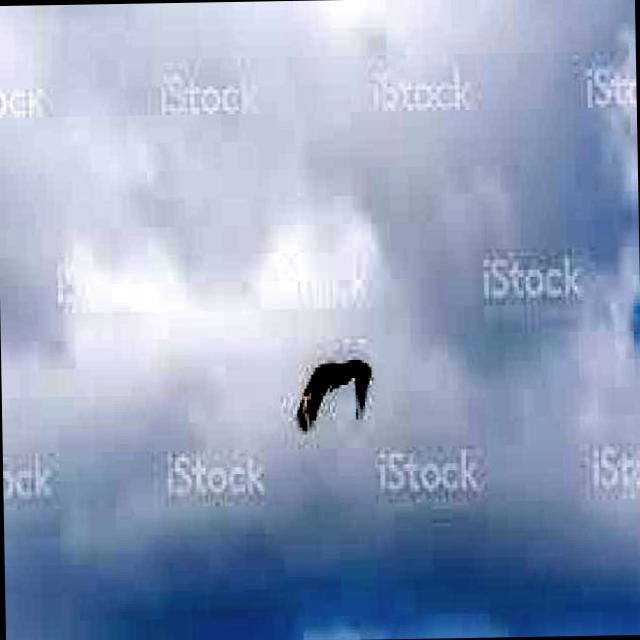bird: (293, 349, 377, 444)
